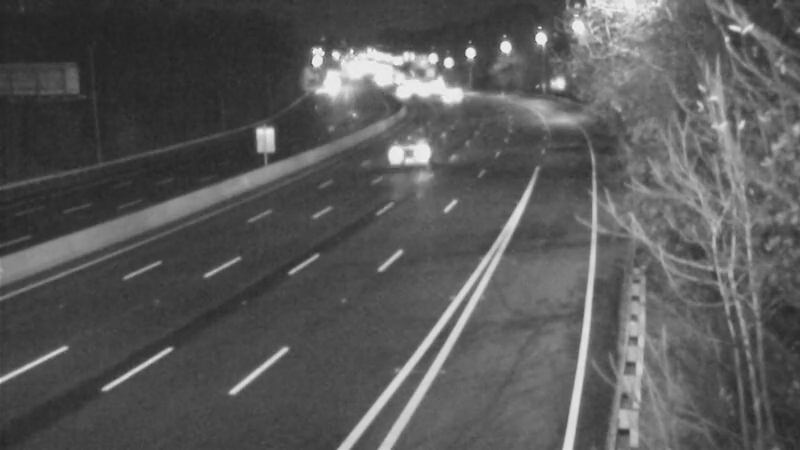vehicle: (371, 121, 451, 201), (425, 66, 475, 116)
